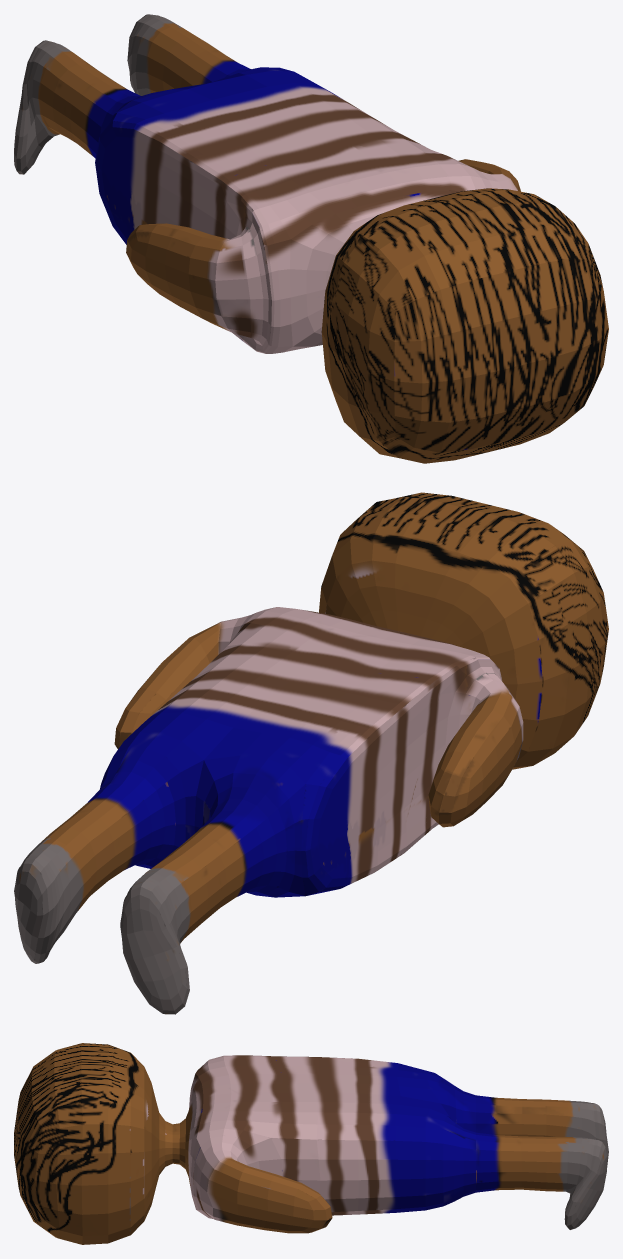
The model's file is antman_stand_4.obj.
3 renders of one model, top to bottom at view 1: azimuth 30°, elevation 25°; view 2: azimuth 150°, elevation 25°; view 3: azimuth 270°, elevation 25°, orthographic. The views are drawn at different scales.
Parts seen in each view (by area): view 1: Cube; view 2: Cube; view 3: Cube.
Boxes of the visible parts, x1=… form: Cube: x1=14, y1=14, x2=608, y2=463; Cube: x1=14, y1=492, x2=608, y2=1014; Cube: x1=14, y1=1043, x2=608, y2=1244.
Size of the model in its own units: 0.8982 by 0.5834 by 1.93.
